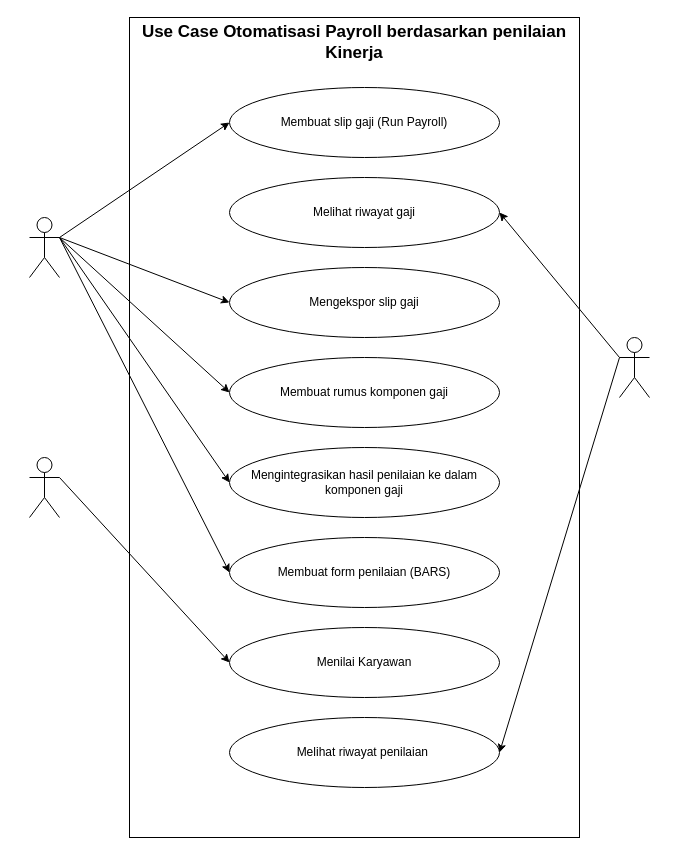
Some shapes in this 675 by 855 pixel diagram are drawn without their labels. The shapes that lost their labels are listed below. From the top down, each one's box as (x1, y1, x2, y2) in pixels, then its label:
(28, 216, 60, 278): Admin HR
(618, 336, 650, 398): Pegawai
(28, 456, 60, 518): Appraiser (Penilai)
